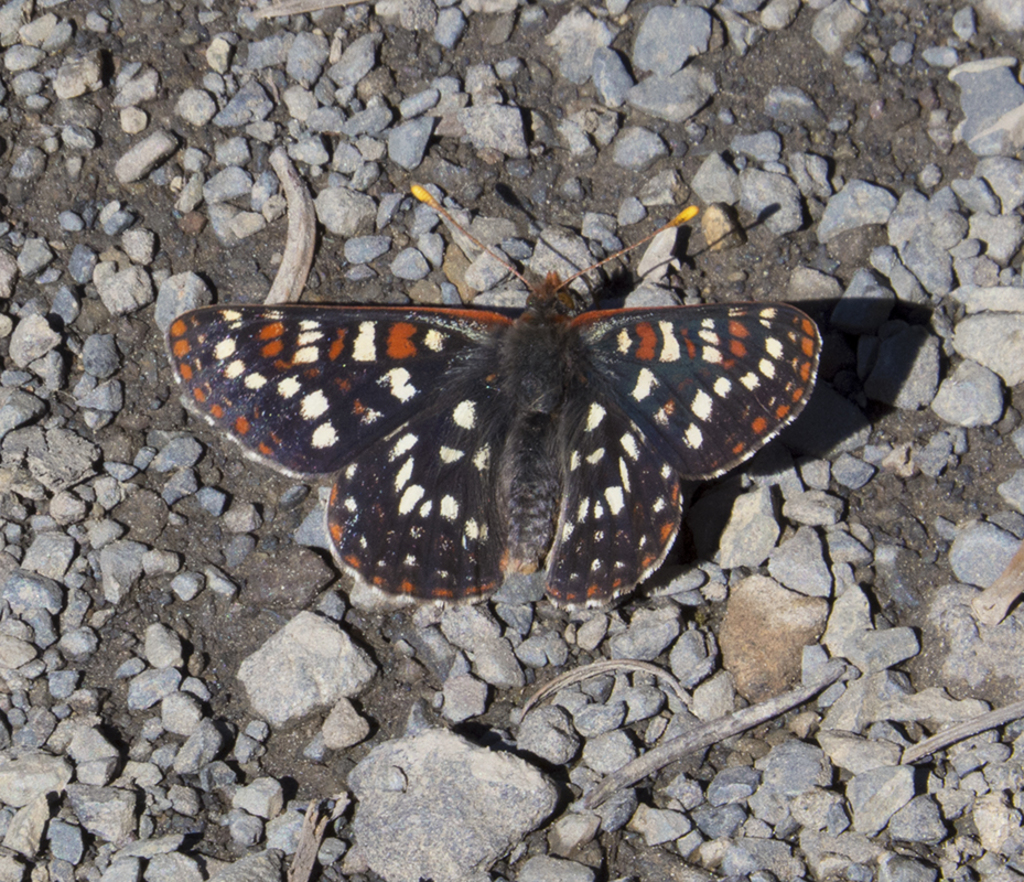Butterfly: (141, 211, 899, 605)
